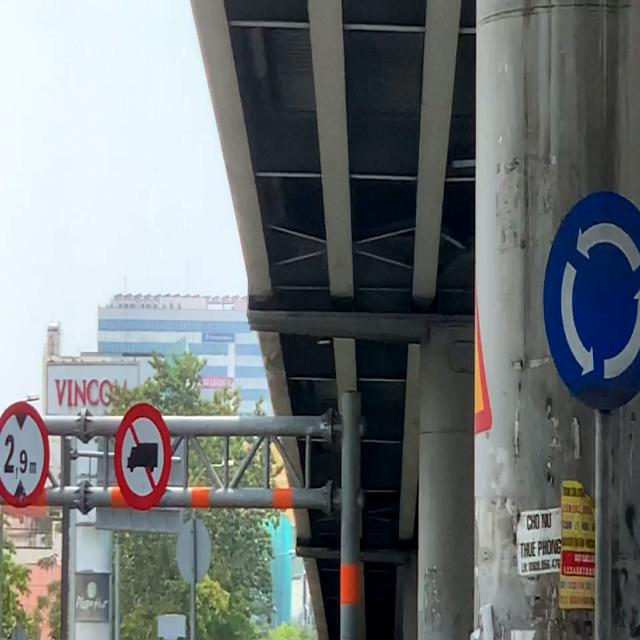P.106a: (114, 402, 172, 510)
P.117: (0, 400, 49, 507)
R.303: (542, 190, 640, 412)
